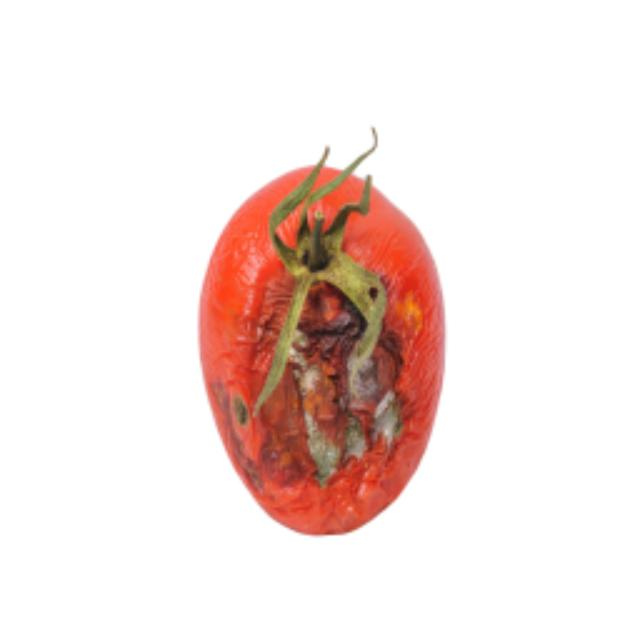defect: (195, 154, 447, 544)
